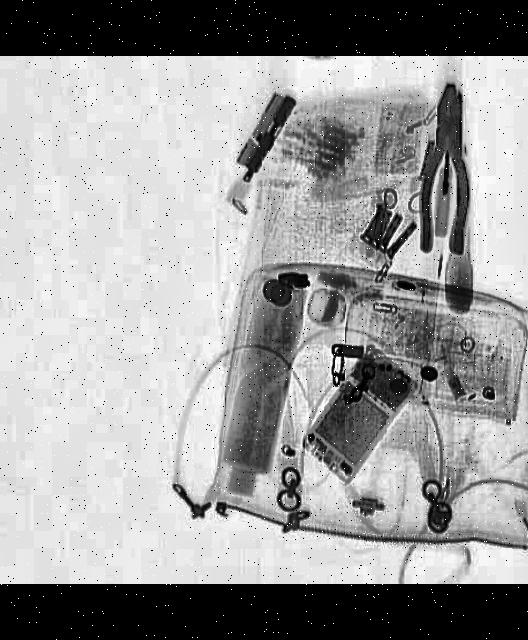Pliers: (416, 82, 474, 256)
